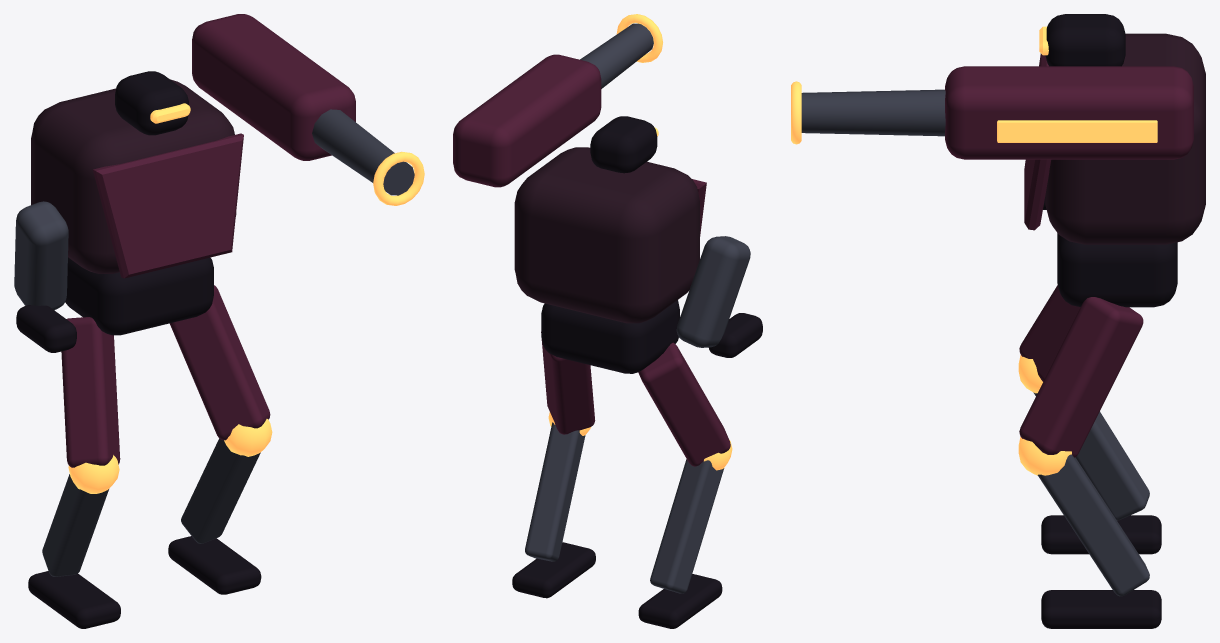
The model's file is shooter.glb.
3 views of the same model, side by side, from view 1: azimuth 30°, elevation 25°; view 2: azimuth 150°, elevation 25°; view 3: azimuth 270°, elevation 25° (orthographic). The views are drawn at different scales.
Visible parts, largest first — view 1: torso:plate, torso:hull, torso:dark, torso:alloy, legL:plate, legR:plate, legL:alloy, legR:alloy, legL:dark, legR:dark, torso:glow, legR:glow (+1 smaller); view 2: torso:hull, torso:plate, torso:dark, torso:alloy, legR:plate, legR:alloy, legL:alloy, legL:plate, legL:dark, legR:dark, torso:glow; view 3: torso:plate, torso:hull, torso:dark, legL:plate, torso:alloy, legL:alloy, torso:glow, legL:dark, legR:alloy, legR:dark, legR:plate, legL:glow (+1 smaller).
Boxes of the visible parts, x1,y1,x2,y2 form: torso:plate: (93,14,355,278); torso:hull: (31,79,236,273); torso:dark: (16,71,213,352); torso:alloy: (14,109,414,310); legL:plate: (169,285,270,440); legR:plate: (61,317,120,467); legL:alloy: (181,438,260,543); legR:alloy: (42,474,108,576); legL:dark: (168,536,261,594); legR:dark: (28,571,120,628); torso:glow: (150,103,424,205); legR:glow: (68,455,119,493); torso:hull: (514,147,699,323); torso:plate: (453,54,706,236); torso:dark: (541,116,762,373); torso:alloy: (580,23,750,347); legR:plate: (638,342,730,466); legR:alloy: (650,459,724,593); legL:alloy: (525,422,585,561); legL:plate: (541,332,595,434); legL:dark: (512,542,595,598); legR:dark: (638,574,722,628); torso:glow: (616,14,662,136); torso:plate: (945,53,1193,230); torso:hull: (1045,33,1205,244); torso:dark: (1043,14,1177,307); legL:plate: (1019,297,1143,457); torso:alloy: (801,89,945,136); legL:alloy: (1037,454,1149,596); torso:glow: (791,26,1157,144); legL:dark: (1041,590,1161,628); legR:alloy: (1033,392,1149,520); legR:dark: (1041,515,1161,554); legR:plate: (1019,285,1080,381); legL:glow: (1018,437,1071,475).
Size of the model in its own units: 0.8877 by 1.56 by 1.03.
